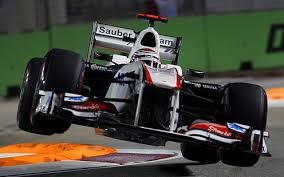FormulaOneCar: (16, 8, 272, 171)
